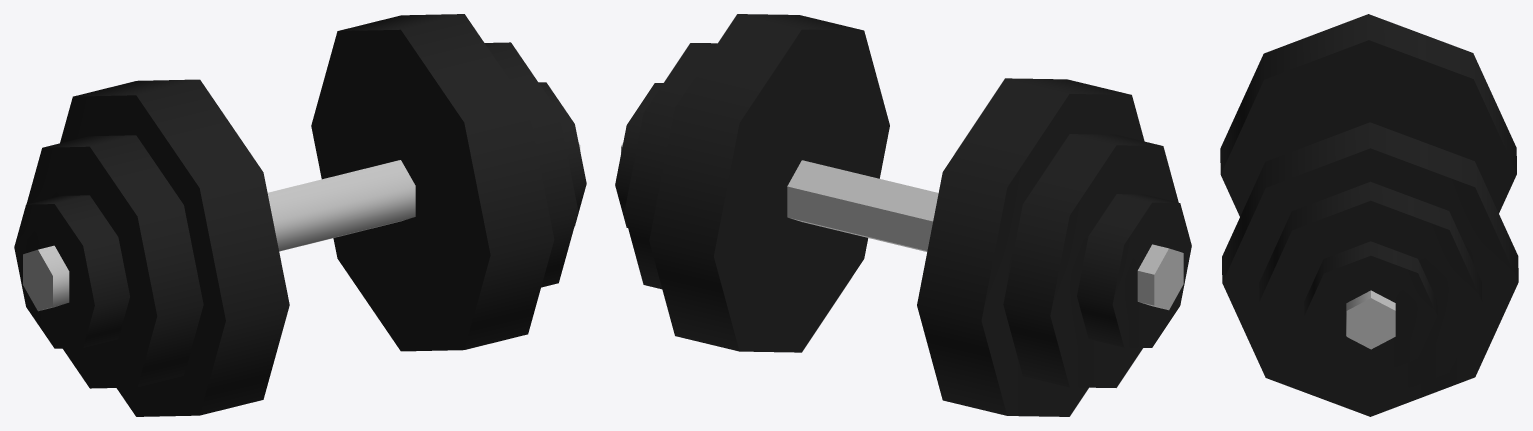
The model's file is training_item_020.glb.
The picture shows the model from 3 angles, left to right: view 1: azimuth 30°, elevation 25°; view 2: azimuth 150°, elevation 25°; view 3: azimuth 270°, elevation 25°; orthographic projection. The views are drawn at different scales.
Visible parts, largest first — view 1: training_item_020; view 2: training_item_020; view 3: training_item_020.
Boxes of the visible parts, x1=… form: training_item_020: x1=14, y1=14, x2=586, y2=416; training_item_020: x1=615, y1=14, x2=1191, y2=416; training_item_020: x1=1220, y1=14, x2=1518, y2=416.
Size of the model in its own units: 0.3994 by 0.2318 by 0.2333.
Materials: 1 (1 with a texture image).
